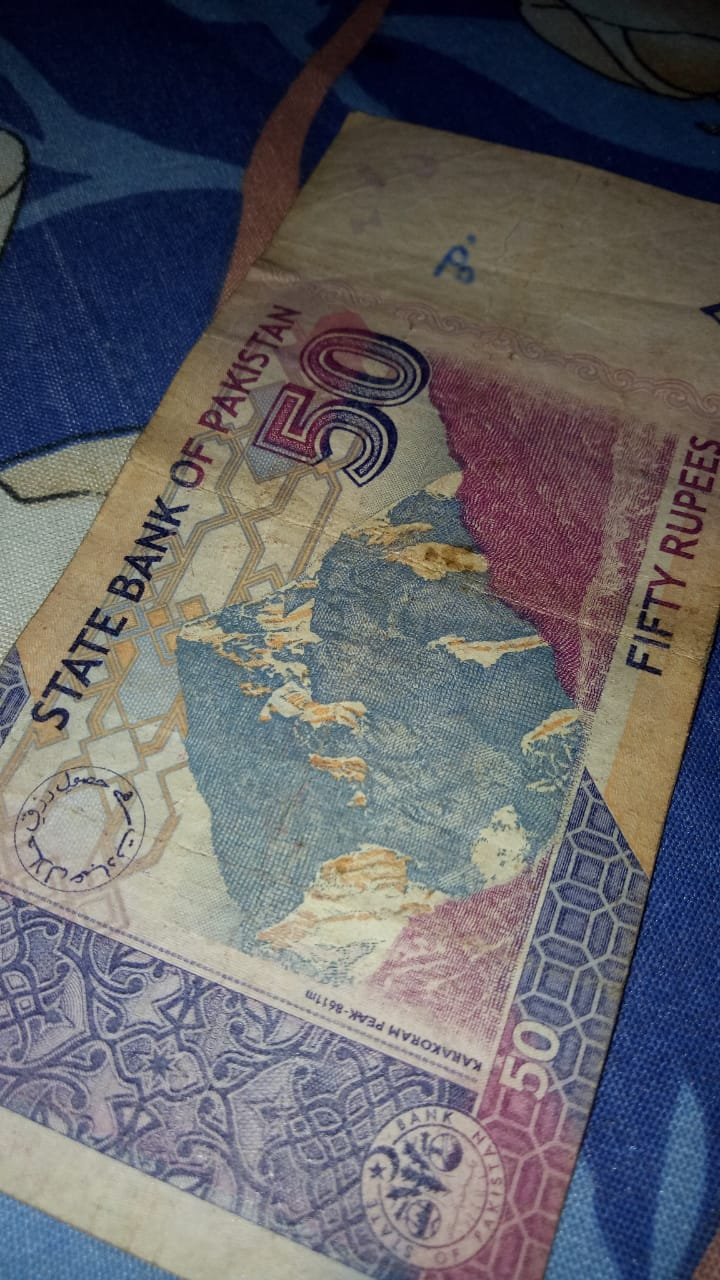50 rupee: (17, 71, 700, 1275)
